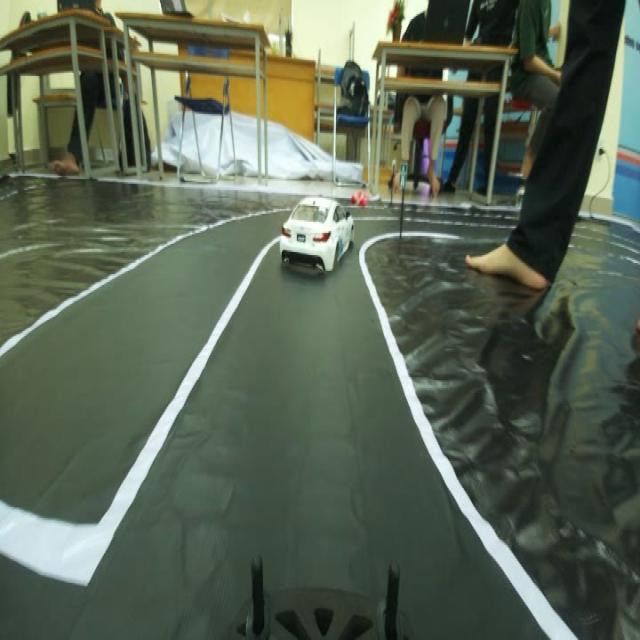car: (280, 196, 355, 284)
